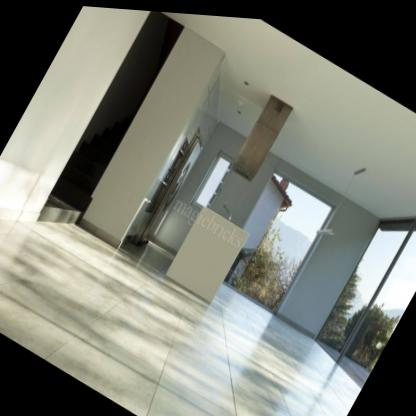Ceramic floor: (0, 219, 361, 416)
